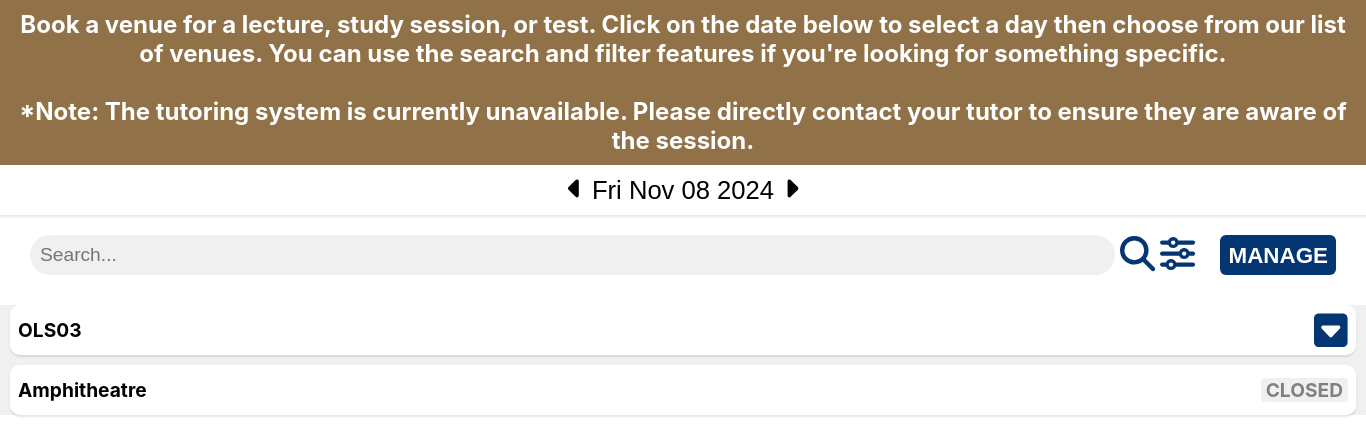
Test: Venues › Entering a venue name and clicking the search button narrows results by name
In the field with test id "search-input": (573, 255) [30, 235, 1115, 275], type "OLS"
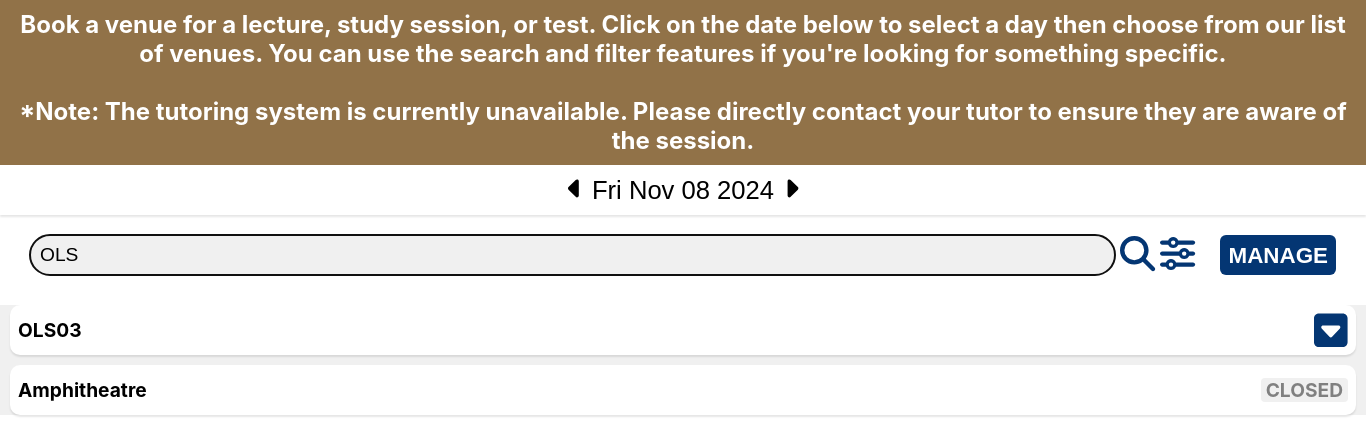
Click the button with test id "search-icon-button": (1138, 255) [1120, 235, 1155, 275]
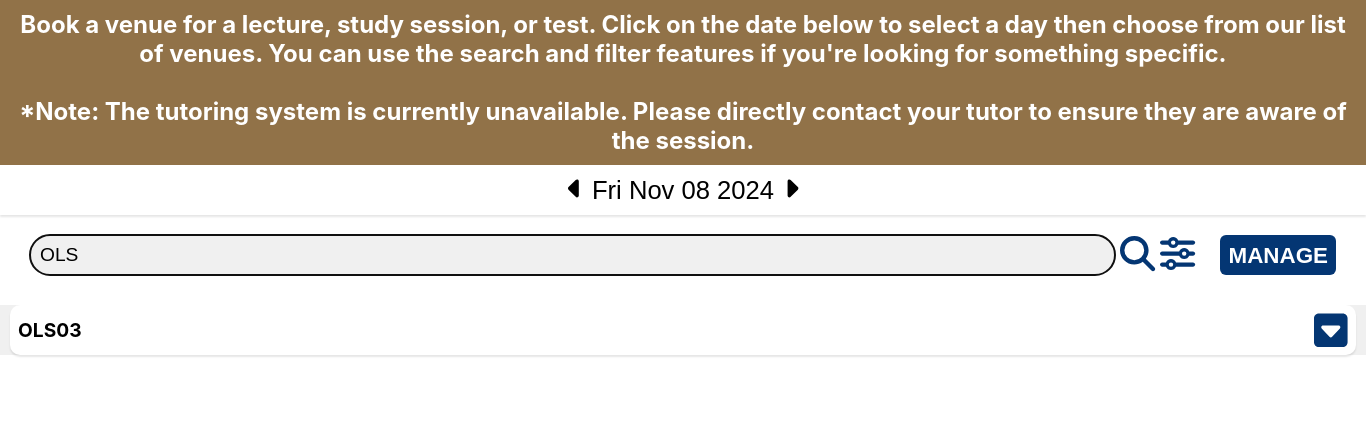
Now no headings "Amphitheatre" are shown
